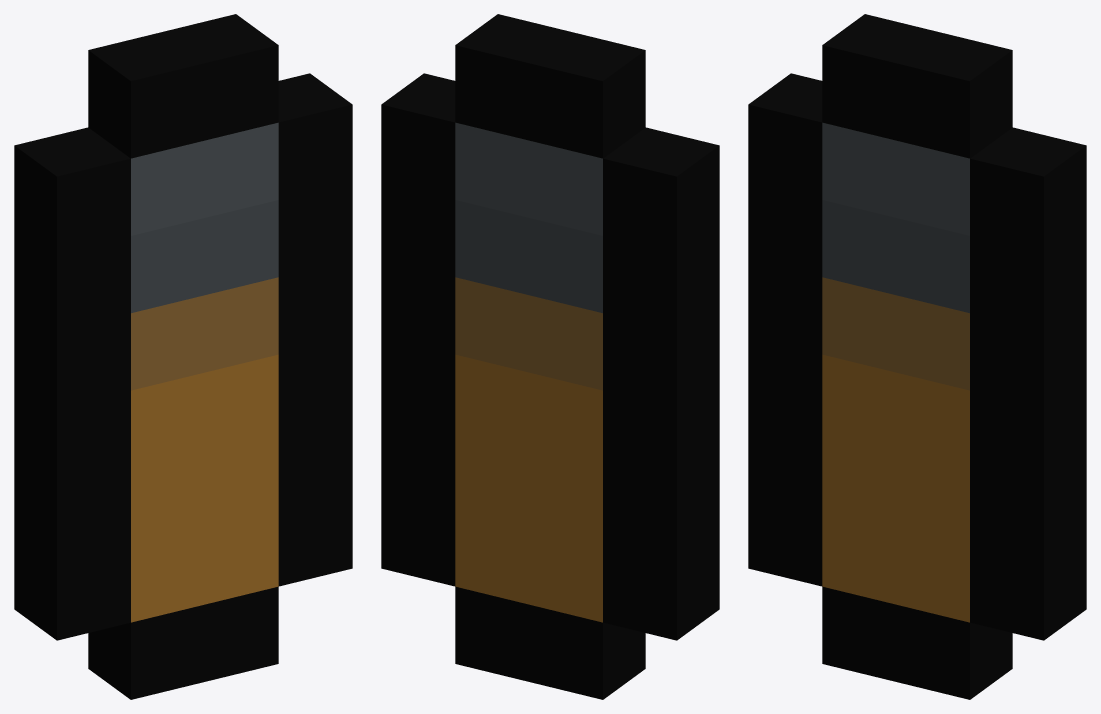
The model's file is Gray Torch.glb.
3 renders of one model, left to right at view 1: azimuth 30°, elevation 25°; view 2: azimuth 150°, elevation 25°; view 3: azimuth 330°, elevation 25°, orthographic.
Parts seen in each view (by area): view 1: generated(Clone); view 2: generated(Clone); view 3: generated(Clone).
Part boxes in pixels (box(x1,y1,x2,y2)): generated(Clone): box(14, 14, 352, 699); generated(Clone): box(381, 14, 719, 699); generated(Clone): box(748, 14, 1086, 699).
Size of the model in its own units: 4 by 8 by 1.
1 material, 1 textured.
